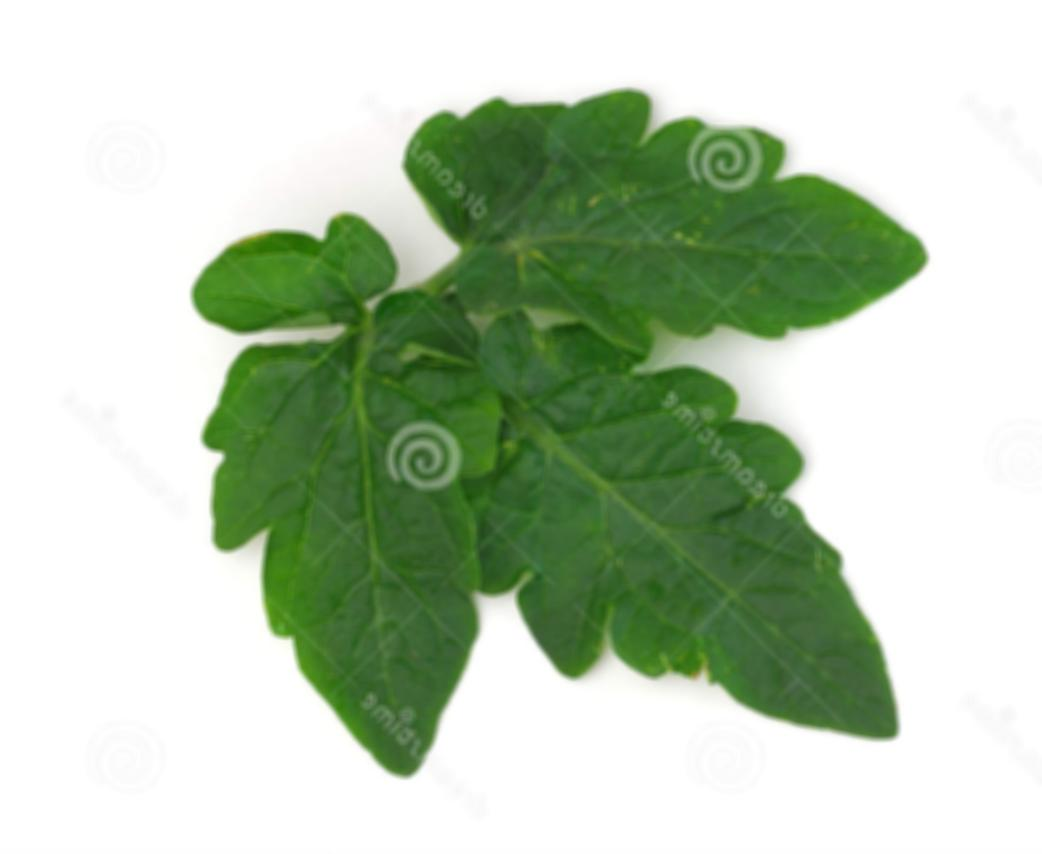Tomato leaf: (390, 275, 898, 774), (304, 67, 858, 383), (202, 312, 531, 808)
